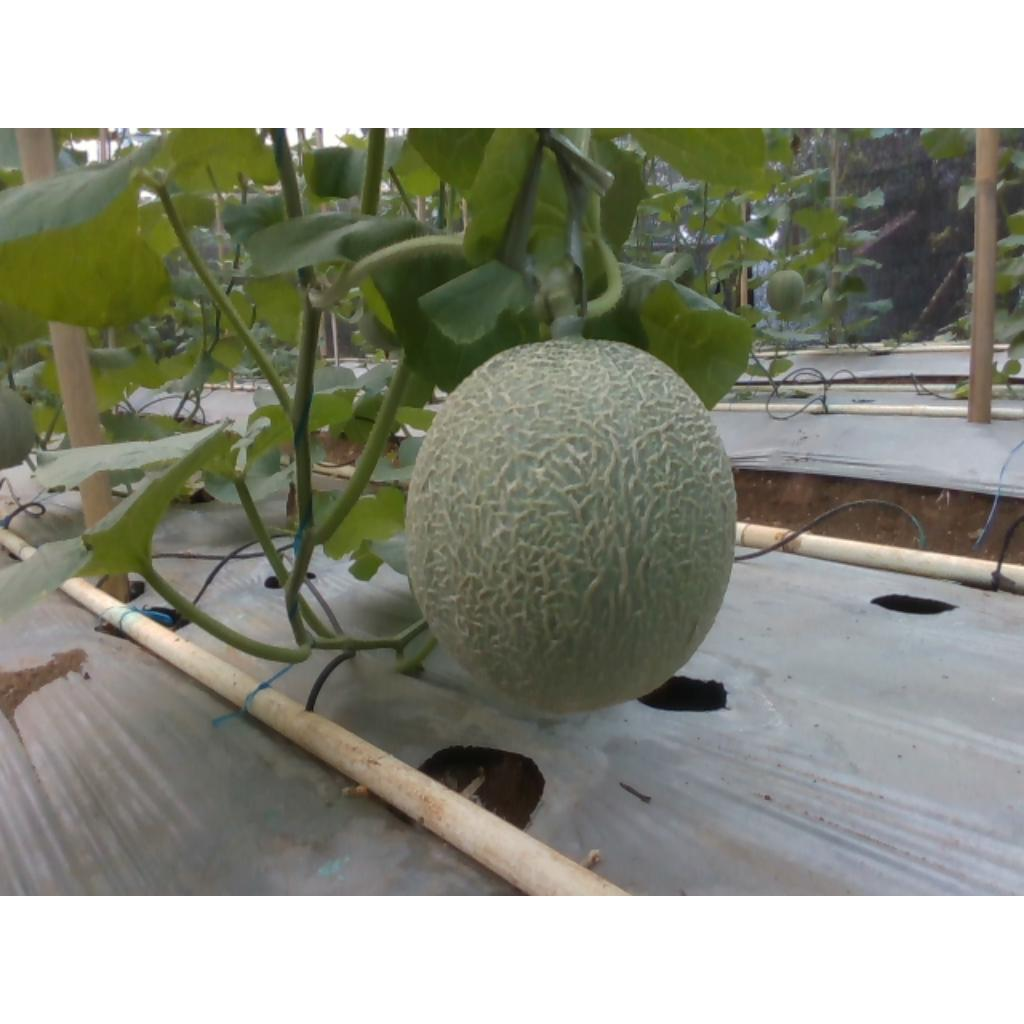melon: (406, 339, 738, 713)
